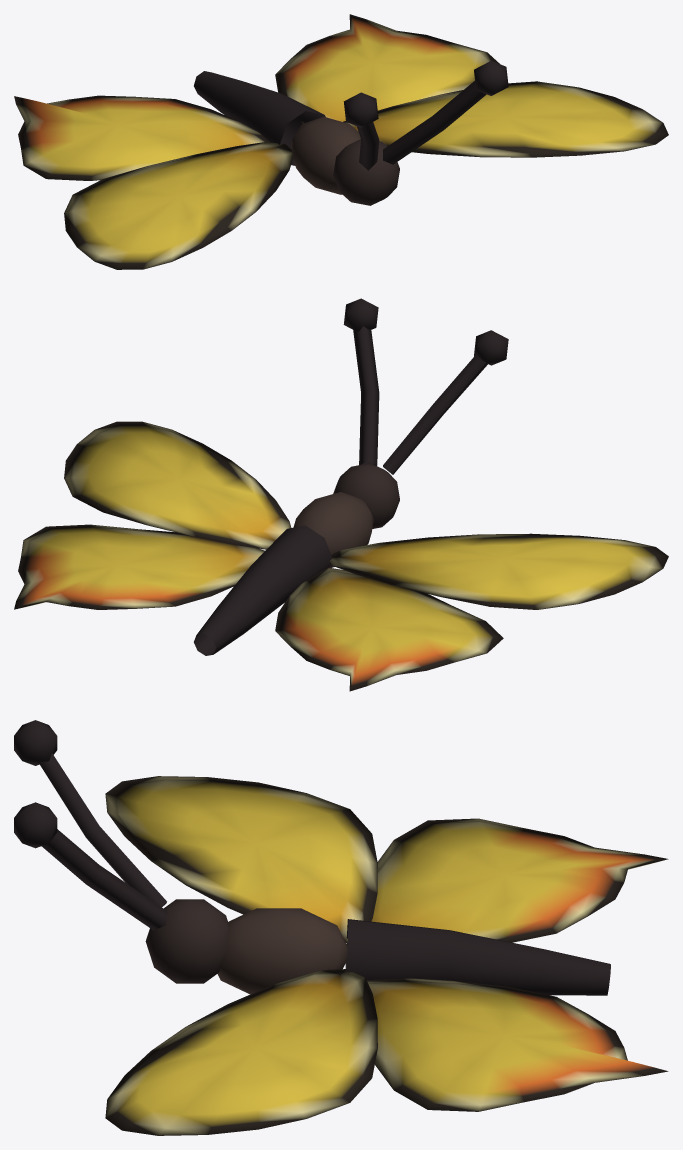
Rendered from critter_butterfly0.glb.
The picture shows the model from 3 angles, top to bottom: view 1: azimuth 30°, elevation 25°; view 2: azimuth 150°, elevation 25°; view 3: azimuth 270°, elevation 25°; orthographic projection. The views are drawn at different scales.
Visible parts, largest first — view 1: butterfly0_wing_l, butterfly0_wing_r, butterfly0_body; view 2: butterfly0_wing_l, butterfly0_wing_r, butterfly0_body; view 3: butterfly0_wing_r, butterfly0_wing_l, butterfly0_body.
Boxes of the visible parts, box(x1,y1,x2,y2) form: butterfly0_wing_l: box(14, 95, 292, 269); butterfly0_wing_r: box(275, 14, 668, 157); butterfly0_body: box(194, 60, 508, 205); butterfly0_wing_l: box(275, 533, 668, 691); butterfly0_wing_r: box(14, 421, 291, 609); butterfly0_body: box(194, 298, 508, 655); butterfly0_wing_r: box(105, 969, 668, 1135); butterfly0_wing_l: box(105, 776, 668, 942); butterfly0_body: box(14, 720, 610, 995).
Bounding box in the file's own units: 0.2012 × 0.061 × 0.1548.
